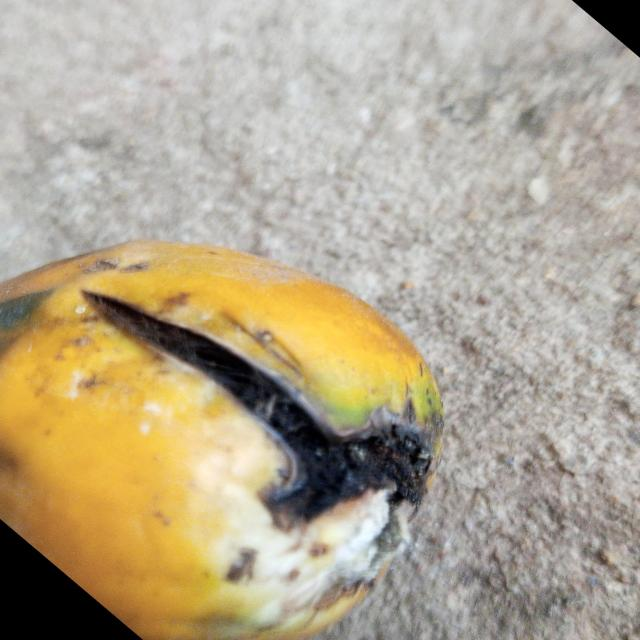damaged: (0, 241, 443, 640)
